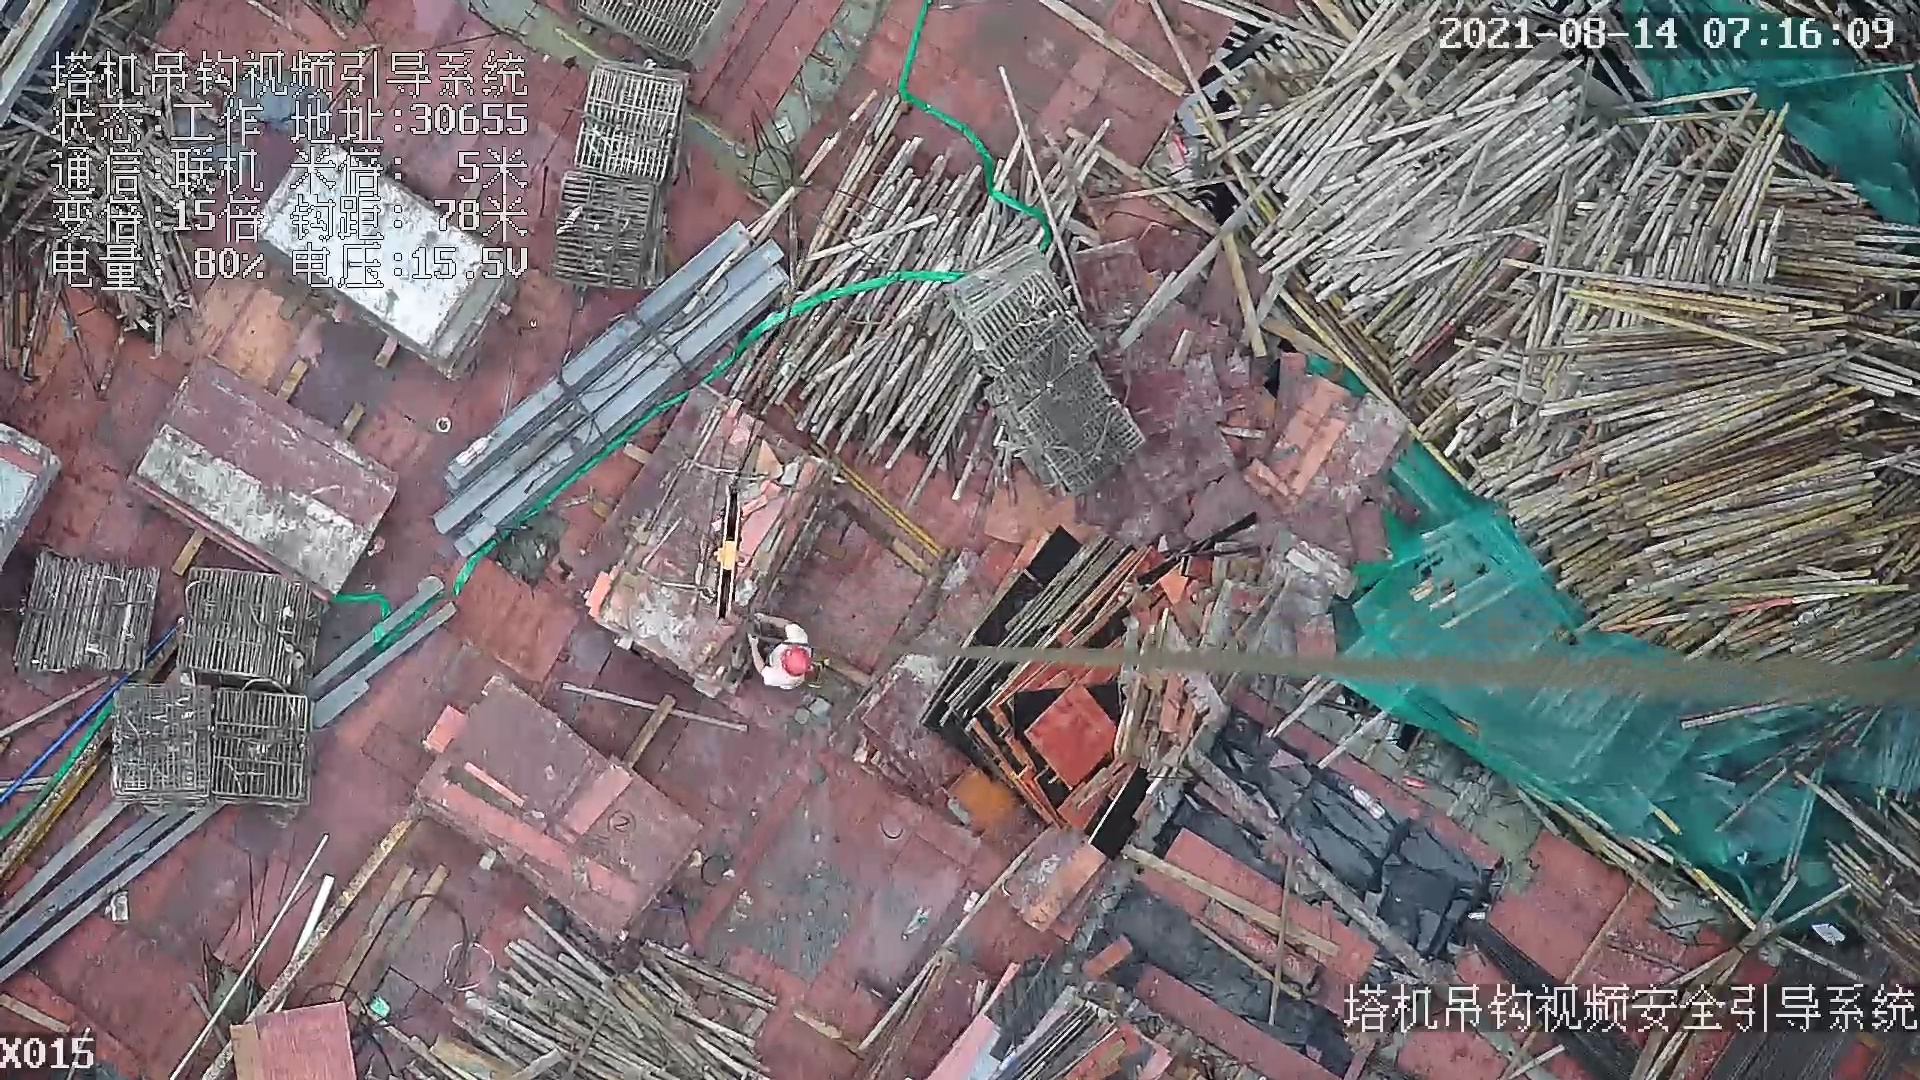helmet: (775, 641, 810, 678)
hook: (705, 483, 745, 624)
person: (745, 603, 817, 691)
